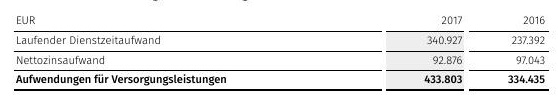table: (0, 0, 558, 103)
